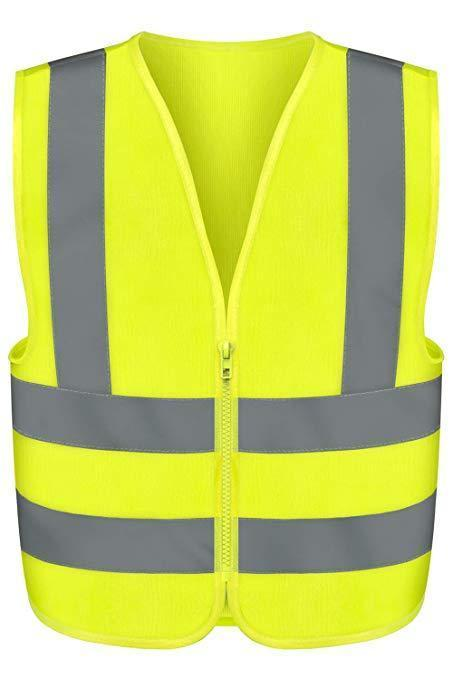vest: (9, 35, 439, 641)
